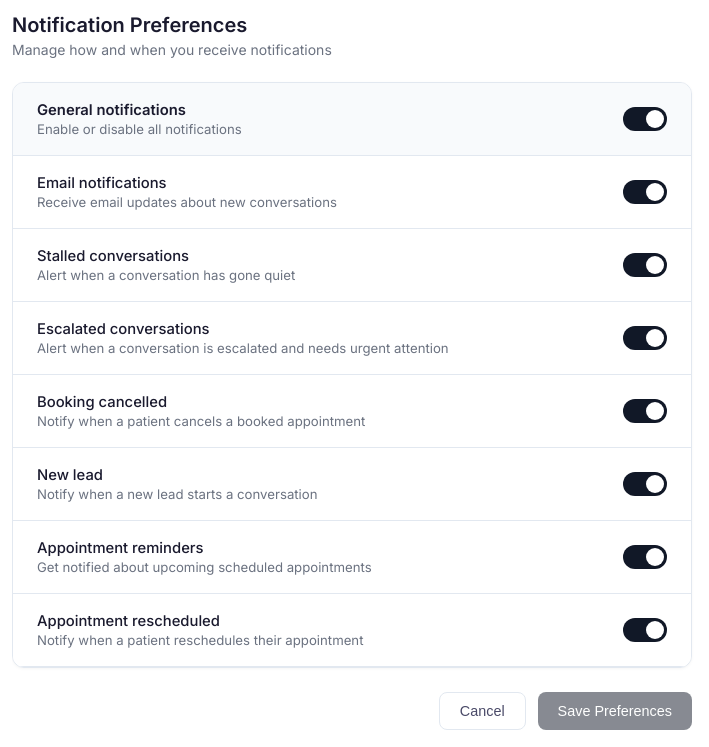
Test case: NotificationPreferences › re-enables individual toggles when general notifications is toggled back on
This screenshot has width=709, height=747.
Click the switch named "General notifications". click: (645, 119)
box: 623,107 -> 667,131
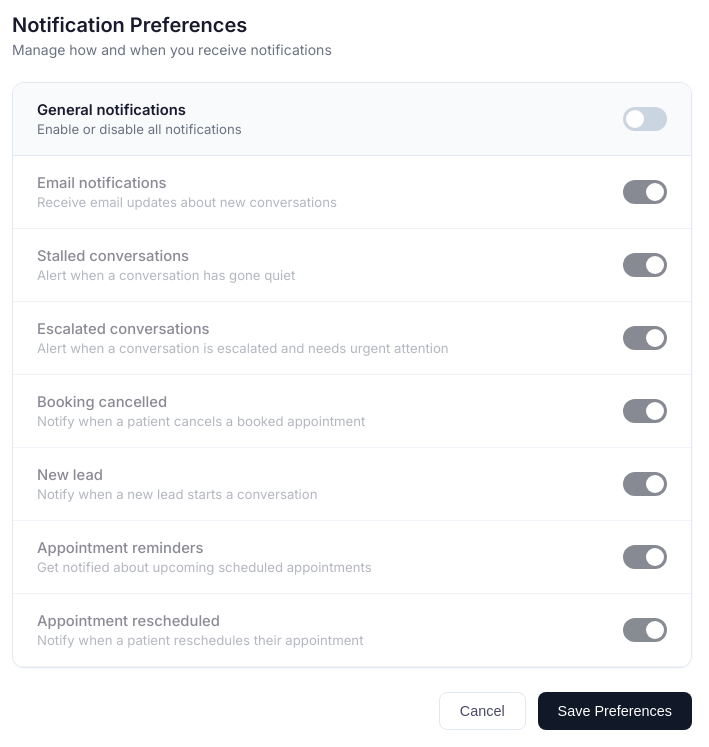
Click the switch named "General notifications". click: (645, 119)
box: 623,107 -> 667,131
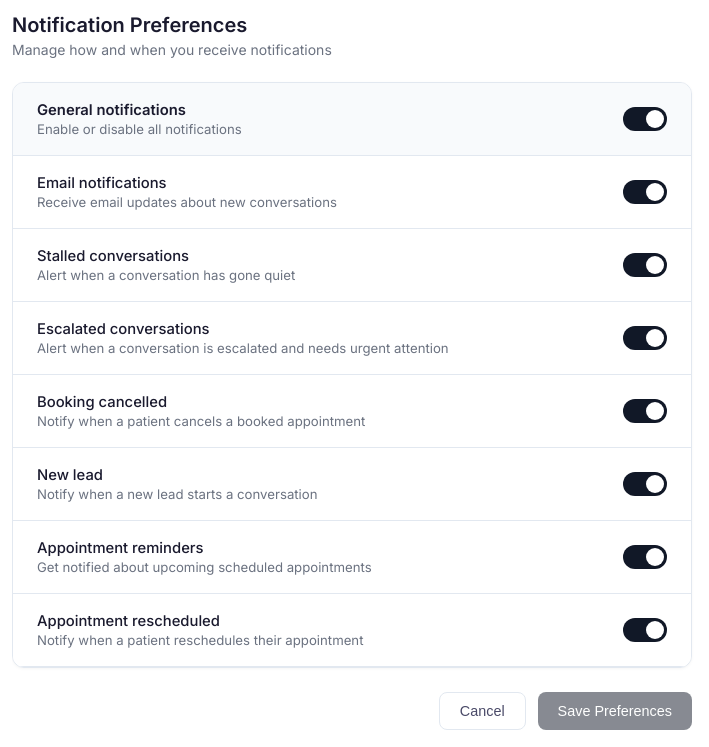
Expected: the switch named "Email notifications" is enabled, 623,180 -> 667,204
